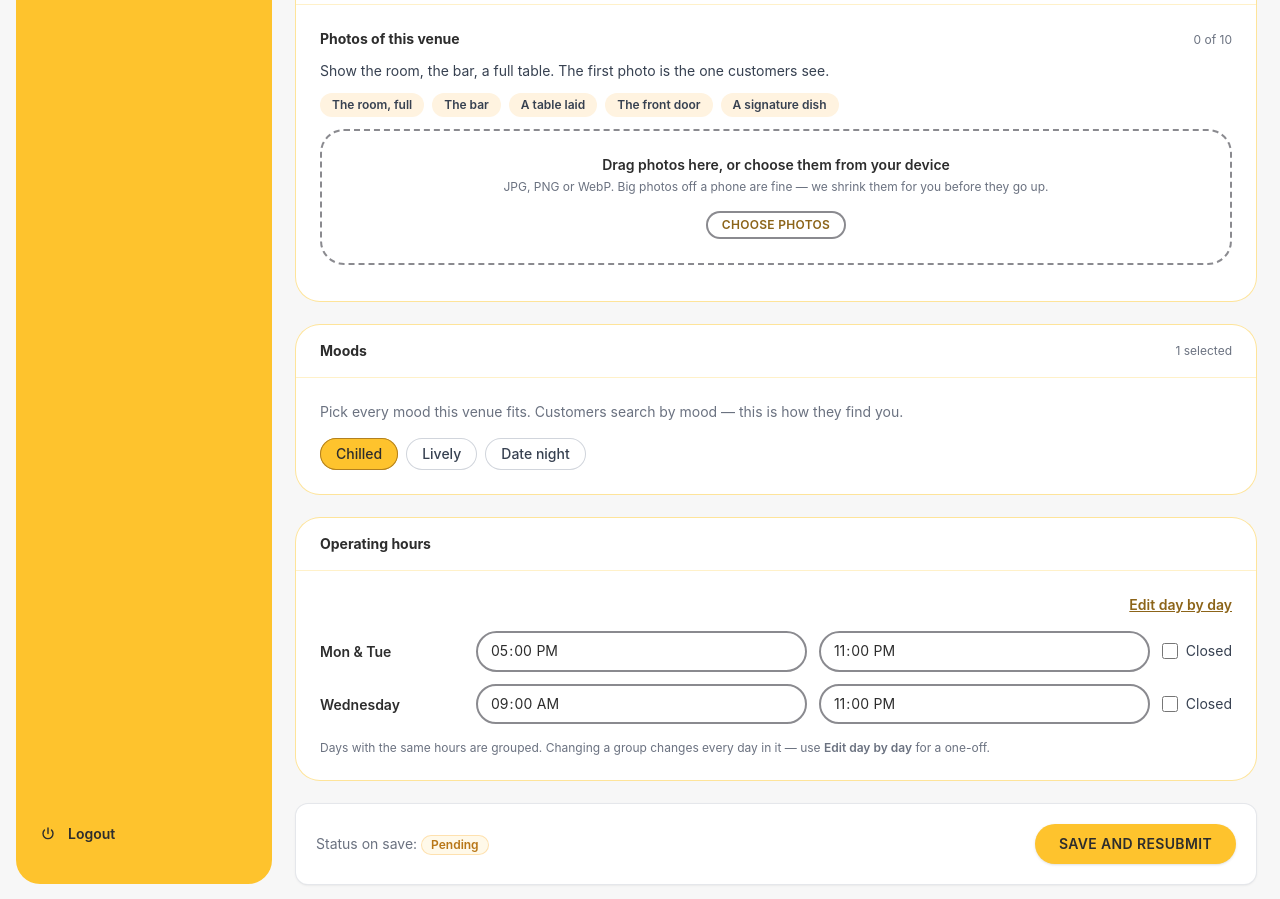
it: edit a venue › never shows a raw Python TypeError to a partner
(page scrolled)
Click the button "Lively" at (442, 454), box [406,438,477,470]
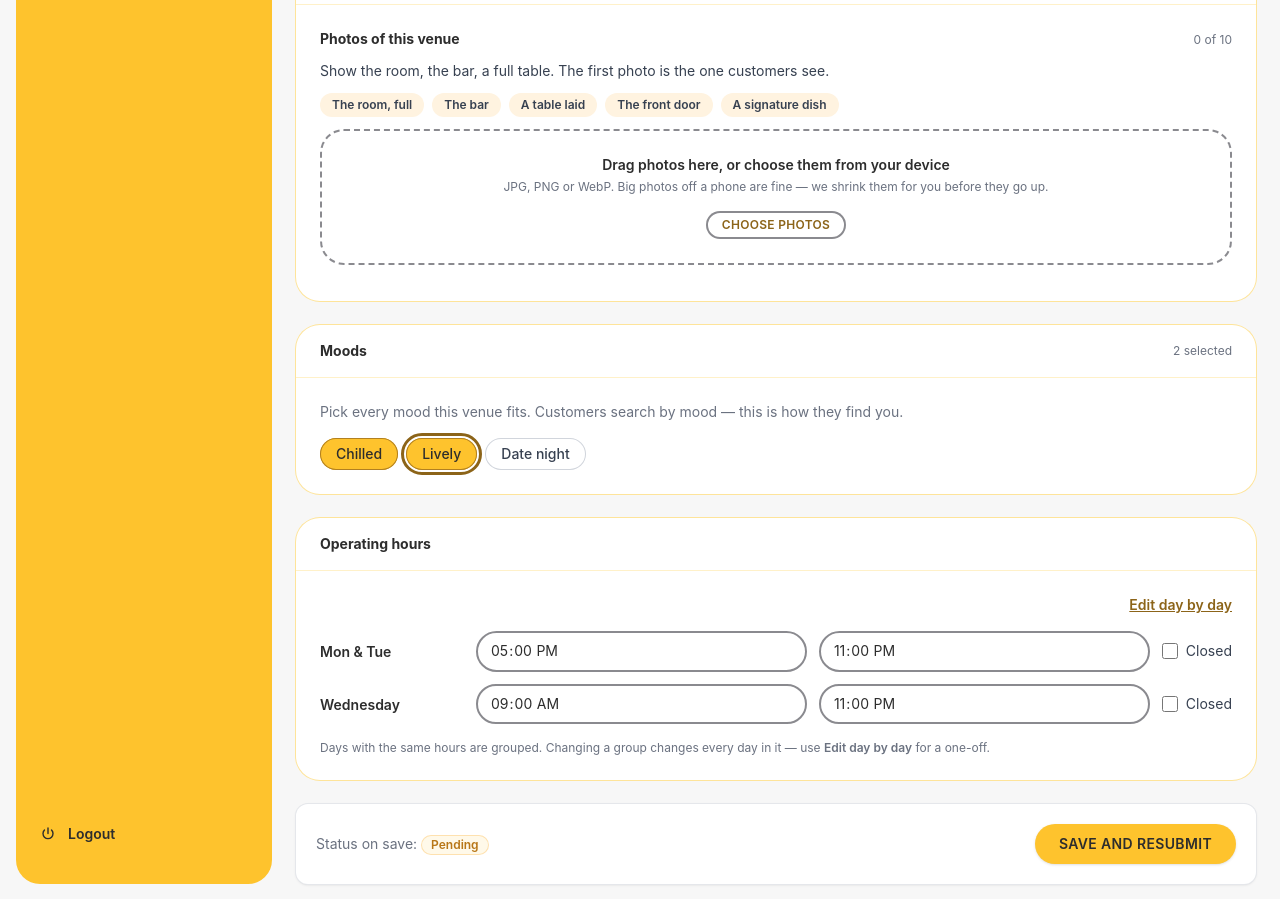
Click the button "Save and resubmit" at (1136, 844), box [1035,824,1236,864]
(page scrolled)
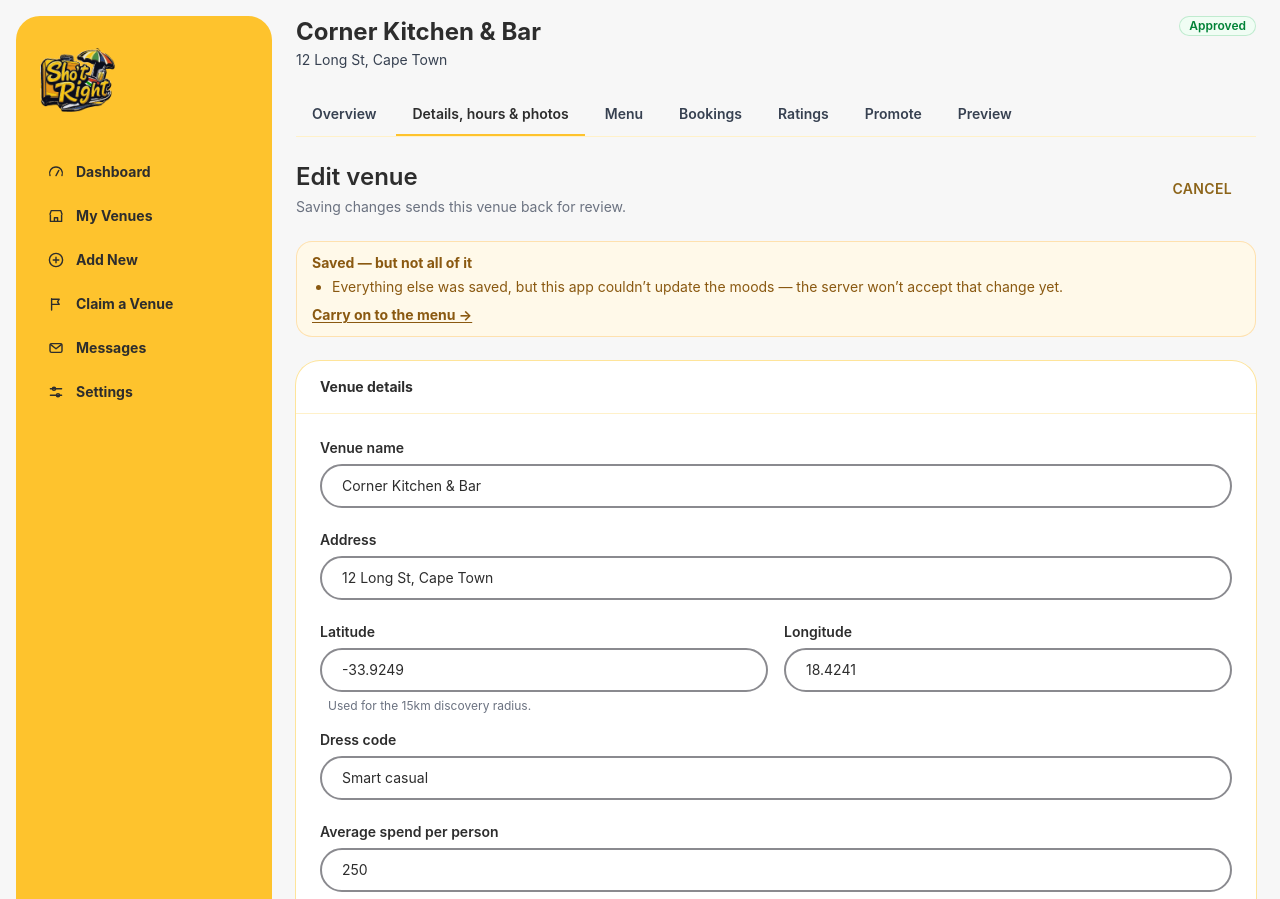
Now the list item "couldn’t update" is shown, box [332,278,1063,295]
